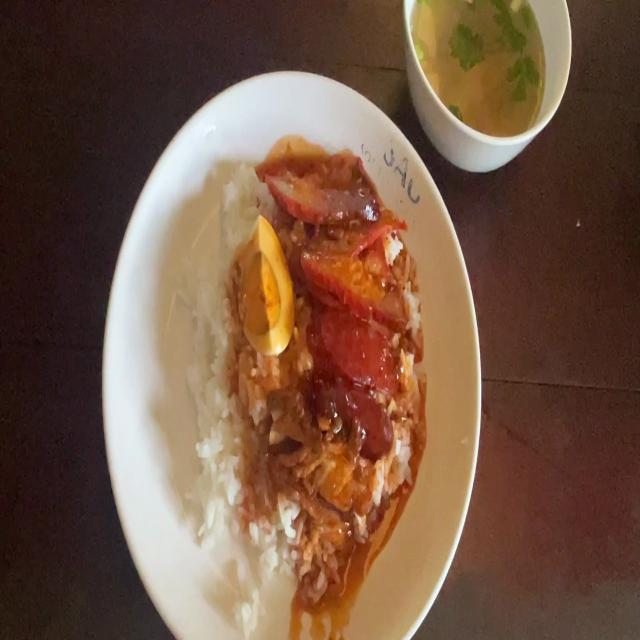red_pork_and_crispy_pork: (238, 234, 286, 358)
stir_fried_basil: (321, 334, 403, 440)
